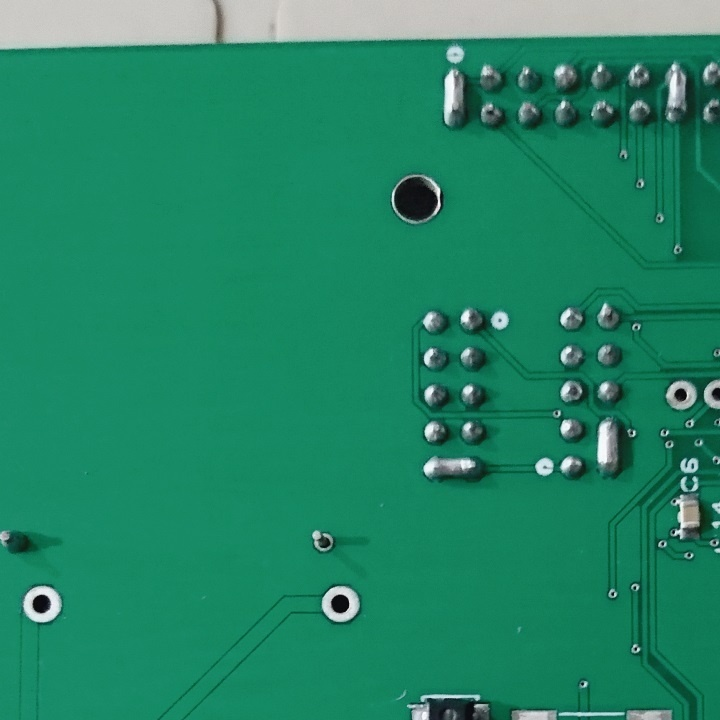F: (20, 582, 65, 627), (319, 583, 363, 625), (664, 377, 698, 414), (307, 529, 337, 556), (702, 376, 720, 409)
P: (593, 412, 623, 482), (661, 60, 691, 128), (421, 452, 484, 484), (441, 66, 467, 132)
